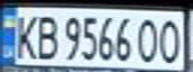5: (78, 12, 100, 62)
6: (112, 15, 136, 62), (97, 12, 118, 63)
9: (60, 12, 81, 61)
B: (33, 11, 60, 61)
K: (9, 10, 42, 61)
O: (133, 15, 163, 64), (157, 16, 187, 65)
